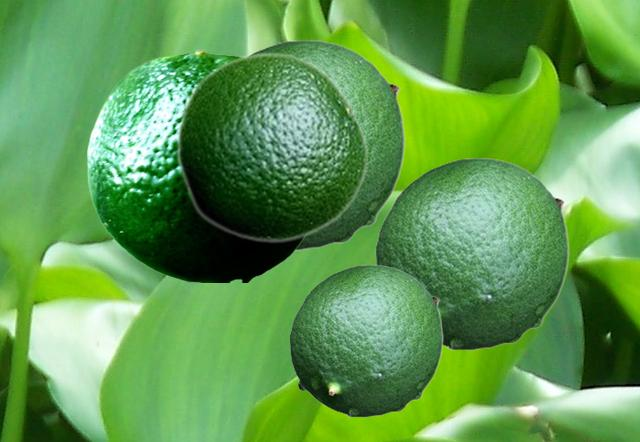calamansi: (87, 49, 304, 281), (375, 157, 568, 349), (175, 51, 368, 243), (247, 39, 404, 249), (289, 264, 442, 416)
